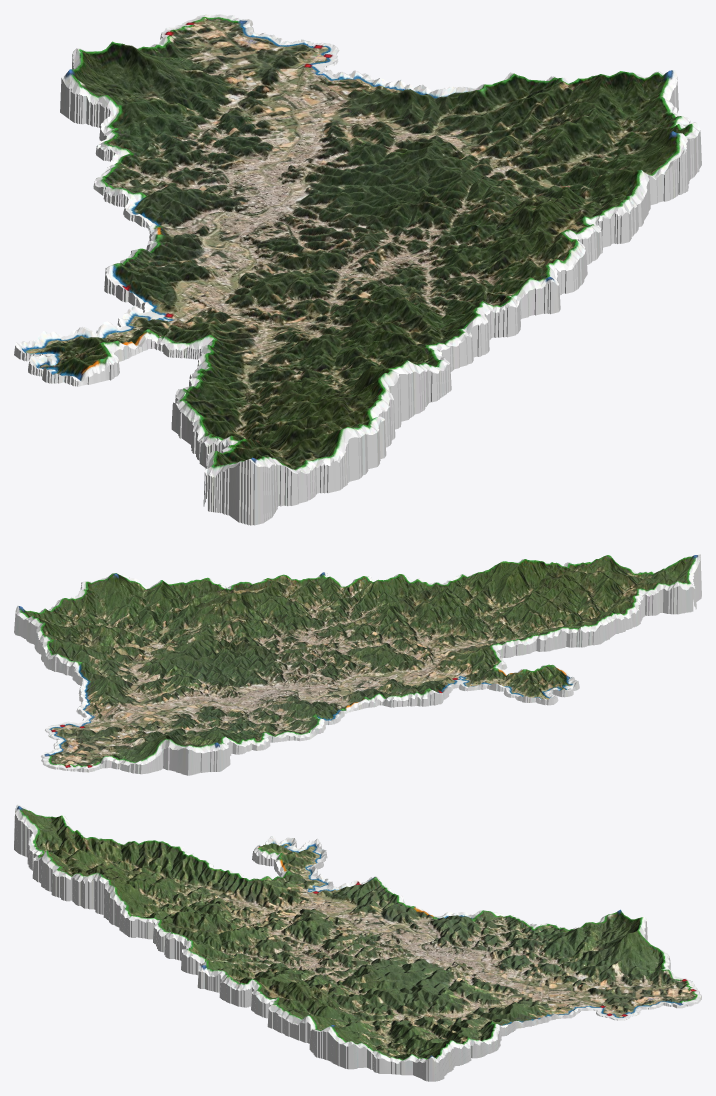
The picture shows the model from 3 angles, top to bottom: view 1: azimuth 30°, elevation 25°; view 2: azimuth 150°, elevation 25°; view 3: azimuth 270°, elevation 25°; orthographic projection. The views are drawn at different scales.
Size of the model in its own units: 1 by 0.081 by 1.21.
Materials: 1 (1 with a texture image).
